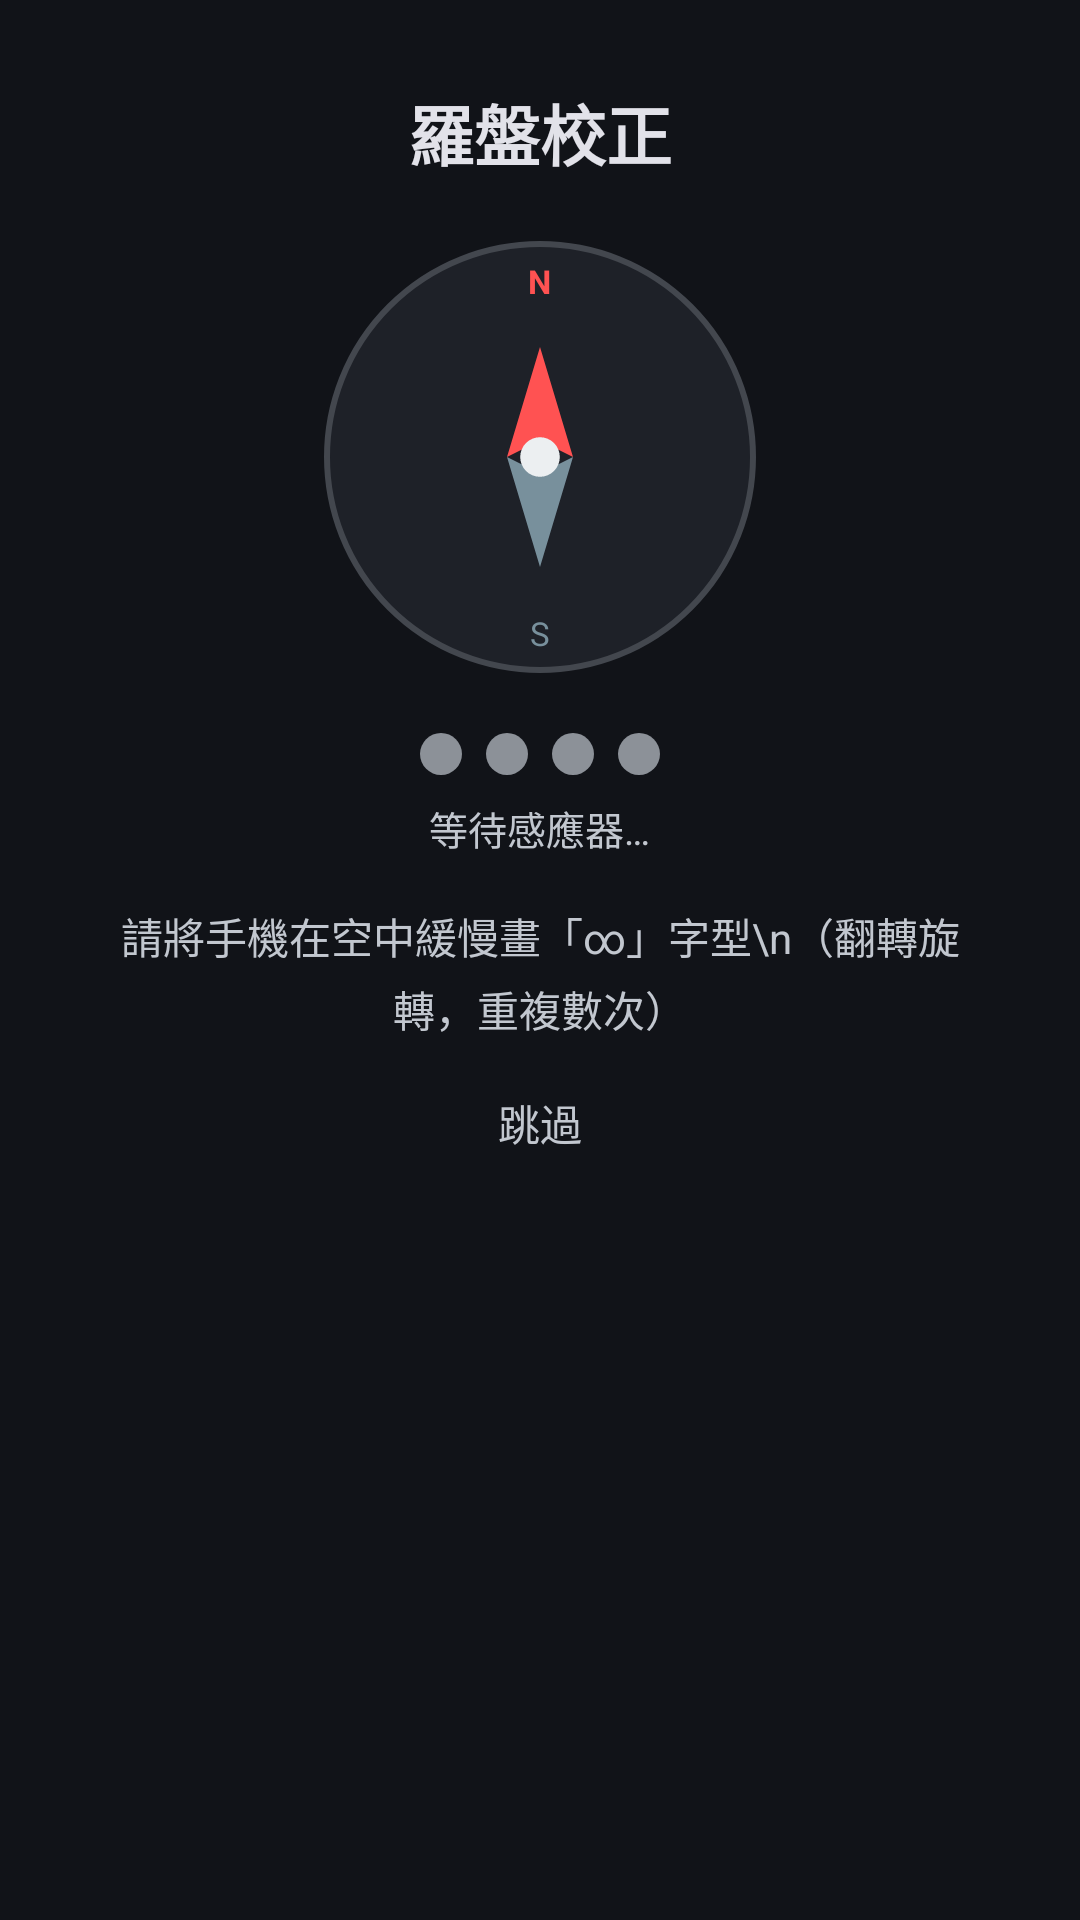

Point at icon controls on the screen. Image size 1080×1920, points as (x=x, y=y).
compass needle: (x=540, y=456)
